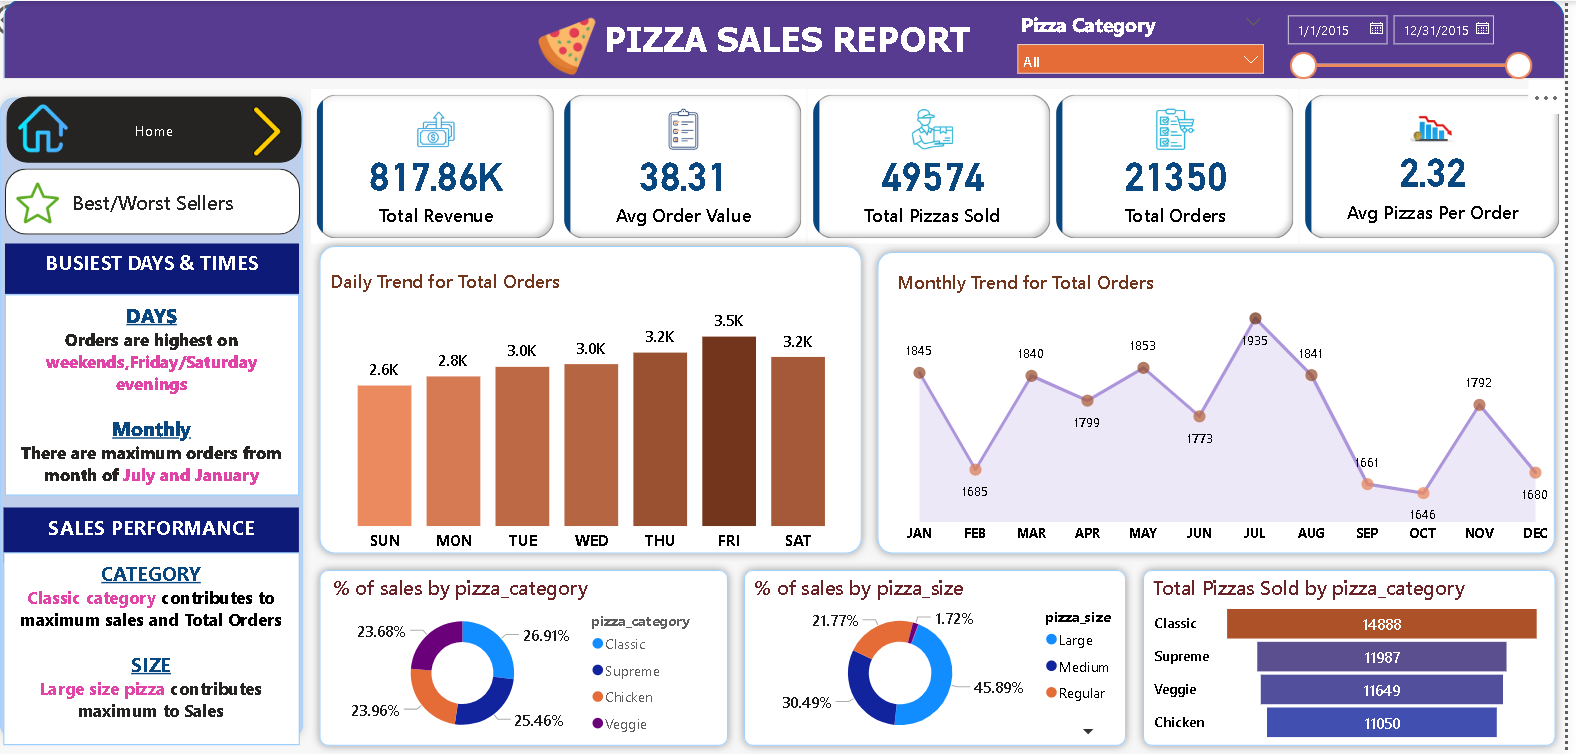

Layout of this report page (visuals, bound fields, positions):
{"tool":"powerbi","page":{"name":"Home","canvas":[1500,720],"ordinal":0},"visuals":[{"type":"shape","box":[1.6,85.6,304.9,626.9],"z":0},{"type":"actionButton","box":[0,0,100,40],"z":1000},{"type":"cardVisual","fields":{"Data":["pizza_sales.Total Revenue"]},"box":[305.3,85.4,236.3,147.2],"z":2000},{"type":"cardVisual","fields":{"Data":["pizza_sales.Avg Order Value"]},"box":[541.6,85.4,236.3,147.2],"z":3000},{"type":"cardVisual","fields":{"Data":["pizza_sales.Total Pizzas Sold"]},"box":[777.9,85.4,236.3,147.2],"z":4000},{"type":"cardVisual","fields":{"Data":["pizza_sales.Total Orders"]},"box":[1010.5,85.4,236.3,147.2],"z":5000},{"type":"cardVisual","fields":{"Data":["pizza_sales.Avg Pizzas Per Order"]},"box":[1246.8,85.4,252.6,147.2],"z":6000},{"type":"shape","box":[12.7,0,1486.7,76.3],"z":7000},{"type":"textbox","box":[550.7,12.7,418,60],"z":8000},{"type":"image","box":[505.3,10.9,87.2,67.2],"z":9000},{"type":"shape","box":[305.3,227.2,532.5,309],"z":10000},{"type":"columnChart","title":"Daily Trend for Total Orders","fields":{"Category":["pizza_sales.Order Day"],"Y":["pizza_sales.Total Orders"]},"box":[318.1,256.3,508.9,279.9],"z":11000},{"type":"shape","box":[836.8,233.3,661.1,303.3],"z":12000},{"type":"areaChart","title":"Monthly Trend for Total Orders","fields":{"Category":["pizza_sales.Order Month"],"Y":["pizza_sales.Total Orders"]},"box":[858.6,256.7,639.3,270.7],"z":13000},{"type":"shape","box":[305.3,536.1,405.3,183.6],"z":14000},{"type":"shape","box":[710.6,536.1,379.8,183.6],"z":15000},{"type":"shape","box":[1090.5,536.1,408.9,183.6],"z":16000},{"type":"donutChart","title":"% of sales by pizza_category","fields":{"Category":["pizza_sales.pizza_category"],"Y":["pizza_sales.Total Revenue"]},"box":[321.7,547.1,365.3,163.6],"z":17000},{"type":"pieChart","title":"% of sales by pizza_size","fields":{"Y":["pizza_sales.Total Revenue"],"Category":["pizza_sales.pizza_size"]},"box":[723.3,547.1,367.1,163.6],"z":18000},{"type":"funnel","fields":{"Category":["pizza_sales.pizza_category"],"Y":["pizza_sales.Total Pizzas Sold"]},"box":[1103.2,547.1,379.8,163.6],"z":19000},{"type":"textbox","box":[14,233.3,280,48.2],"z":20000},{"type":"textbox","box":[14,281.5,280,191.3],"z":21000},{"type":"textbox","box":[12.4,483.8,281.5,52.9],"z":22000},{"type":"textbox","box":[12.7,527.1,281.7,183.6],"z":23000},{"type":"slicer","fields":{"Values":["pizza_sales.pizza_category"]},"box":[968.7,5.5,254.4,65.4],"z":24000},{"type":"slicer","fields":{"Values":["pizza_sales.order_date"]},"box":[1223.1,5.5,254.4,100],"z":25000},{"type":"pageNavigator","box":[15.6,93.3,281.5,63.8],"z":26000},{"type":"pageNavigator","box":[14,161.8,281.5,63],"z":27000},{"type":"image","box":[234.9,96.4,59.1,57.6],"z":28000},{"type":"image","box":[21.8,93.3,57.6,60.7],"z":29000},{"type":"image","box":[15.6,168,59.1,51.3],"z":30000}]}

Visuals, with their boxes in screenshot pixels (x1, y1, x2, y2), scaled from the page's 1500x720 canvas onto the 1576x754 screenshot:
shape: Rect(2, 90, 322, 746)
actionButton: Rect(0, 0, 105, 42)
cardVisual - pizza_sales.Total Revenue: Rect(321, 89, 569, 244)
cardVisual - pizza_sales.Avg Order Value: Rect(569, 89, 817, 244)
cardVisual - pizza_sales.Total Pizzas Sold: Rect(817, 89, 1066, 244)
cardVisual - pizza_sales.Total Orders: Rect(1062, 89, 1310, 244)
cardVisual - pizza_sales.Avg Pizzas Per Order: Rect(1310, 89, 1575, 244)
shape: Rect(13, 0, 1575, 80)
textbox: Rect(579, 13, 1018, 76)
image: Rect(531, 11, 623, 82)
shape: Rect(321, 238, 880, 562)
"Daily Trend for Total Orders" columnChart: Rect(334, 268, 869, 562)
shape: Rect(879, 244, 1574, 562)
"Monthly Trend for Total Orders" areaChart: Rect(902, 269, 1574, 552)
shape: Rect(321, 561, 747, 753)
shape: Rect(747, 561, 1146, 753)
shape: Rect(1146, 561, 1575, 753)
"% of sales by pizza_category" donutChart: Rect(338, 573, 722, 744)
"% of sales by pizza_size" pieChart: Rect(760, 573, 1146, 744)
funnel - pizza_sales.pizza_category x pizza_sales.Total Pizzas Sold: Rect(1159, 573, 1558, 744)
textbox: Rect(15, 244, 309, 295)
textbox: Rect(15, 295, 309, 495)
textbox: Rect(13, 507, 309, 562)
textbox: Rect(13, 552, 309, 744)
slicer - pizza_sales.pizza_category: Rect(1018, 6, 1285, 74)
slicer - pizza_sales.order_date: Rect(1285, 6, 1552, 110)
pageNavigator: Rect(16, 98, 312, 165)
pageNavigator: Rect(15, 169, 310, 235)
image: Rect(247, 101, 309, 161)
image: Rect(23, 98, 83, 161)
image: Rect(16, 176, 78, 230)
